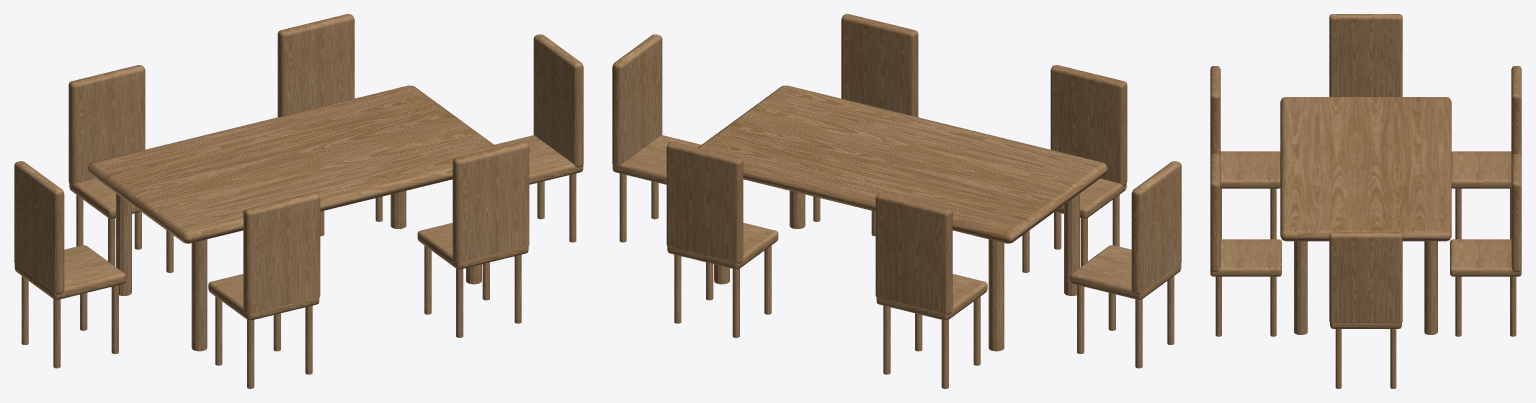
Rendered from dining_set_6_oak.glb.
3 views of the same model, side by side, from view 1: azimuth 30°, elevation 25°; view 2: azimuth 150°, elevation 25°; view 3: azimuth 270°, elevation 25° (orthographic). The views are drawn at different scales.
Visible parts, largest first — view 1: dining top, chair back, chair back.001, chair back.002, chair back.003, end chair back, end chair back.001, chair seat.004, table leg, chair seat.005, chair seat, chair seat.001 (+13 smaller); view 2: dining top, chair back.002, chair back.003, chair back, chair back.001, end chair back, end chair back.001, chair seat.004, table leg.001, chair seat.005, chair seat.002, chair seat.003 (+13 smaller); view 3: dining top, end chair back.001, end chair back, chair seat.001, chair seat.003, chair seat, chair seat.002, table leg.002, table leg.003, chair back.001, chair back.003, chair back (+10 smaller).
Part boxes in pixels (x1=…): dining top: x1=88, y1=85, x2=497, y2=243; chair back: x1=243, y1=193, x2=320, y2=314; chair back.001: x1=452, y1=142, x2=529, y2=263; chair back.002: x1=68, y1=65, x2=145, y2=185; chair back.003: x1=277, y1=14, x2=354, y2=117; end chair back: x1=14, y1=161, x2=64, y2=294; end chair back.001: x1=533, y1=34, x2=583, y2=167; chair seat.004: x1=14, y1=245, x2=125, y2=299; table leg: x1=191, y1=239, x2=207, y2=351; chair seat.005: x1=494, y1=135, x2=583, y2=184; chair seat: x1=208, y1=274, x2=319, y2=320; chair seat.001: x1=417, y1=223, x2=528, y2=269; dining top: x1=698, y1=85, x2=1107, y2=243; chair back.002: x1=875, y1=193, x2=952, y2=314; chair back.003: x1=666, y1=142, x2=743, y2=263; chair back: x1=1050, y1=65, x2=1127, y2=185; chair back.001: x1=841, y1=14, x2=918, y2=117; end chair back: x1=1131, y1=161, x2=1181, y2=294; end chair back.001: x1=612, y1=34, x2=662, y2=167; chair seat.004: x1=1070, y1=245, x2=1181, y2=299; table leg.001: x1=988, y1=239, x2=1004, y2=351; chair seat.005: x1=612, y1=135, x2=701, y2=184; chair seat.002: x1=876, y1=274, x2=987, y2=320; chair seat.003: x1=667, y1=223, x2=778, y2=269; dining top: x1=1280, y1=97, x2=1451, y2=241; end chair back.001: x1=1329, y1=232, x2=1402, y2=322; end chair back: x1=1329, y1=14, x2=1402, y2=96; chair seat.001: x1=1210, y1=239, x2=1281, y2=276; chair seat.003: x1=1450, y1=239, x2=1521, y2=276; chair seat: x1=1220, y1=151, x2=1280, y2=188; chair seat.002: x1=1451, y1=151, x2=1511, y2=188; table leg.002: x1=1294, y1=241, x2=1307, y2=334; table leg.003: x1=1424, y1=241, x2=1437, y2=334; chair back.001: x1=1210, y1=153, x2=1220, y2=271; chair back.003: x1=1511, y1=153, x2=1521, y2=271; chair back: x1=1210, y1=66, x2=1220, y2=156.
Bounding box in the file's own units: 3.08 × 1 × 1.82.
Materials: 1 (1 with a texture image).
